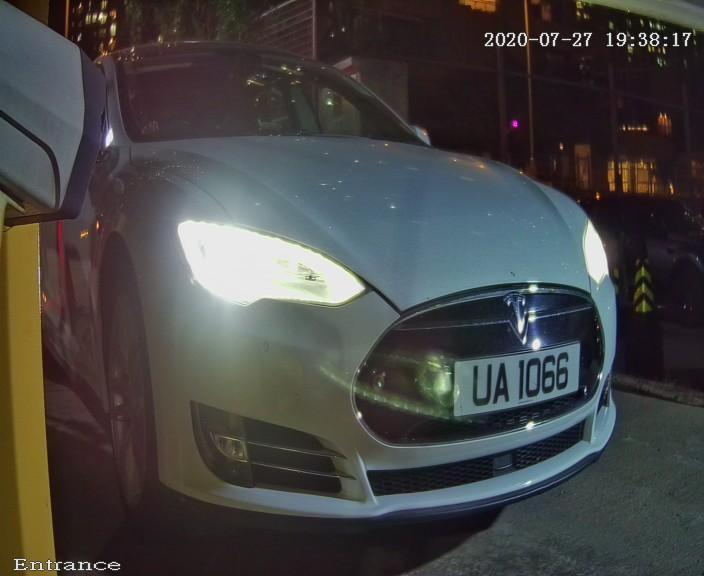privatecar: (70, 52, 613, 546)
